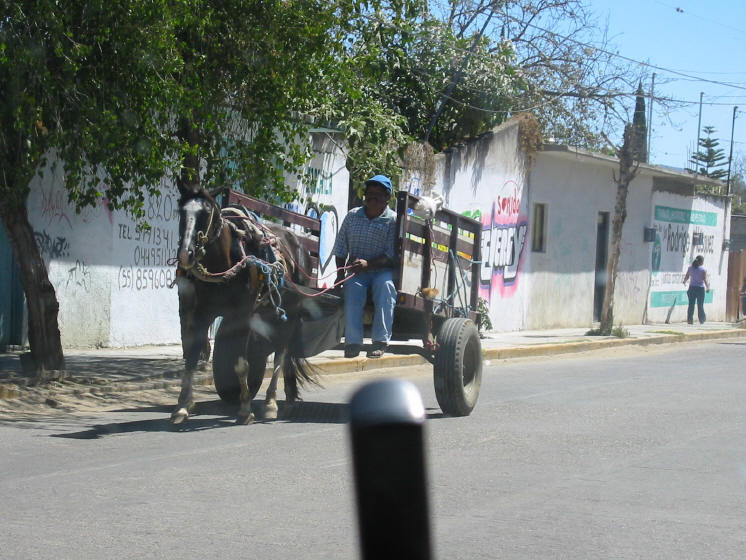horse: (170, 175, 319, 427)
